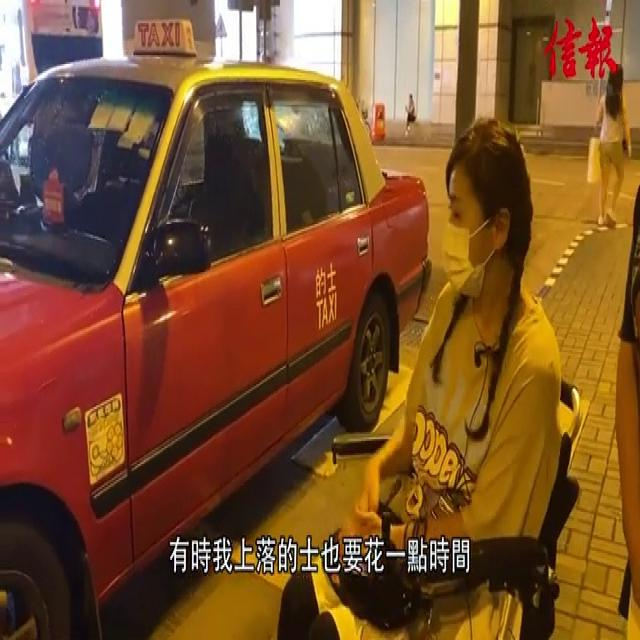wheelchairs: (324, 361, 584, 640)
